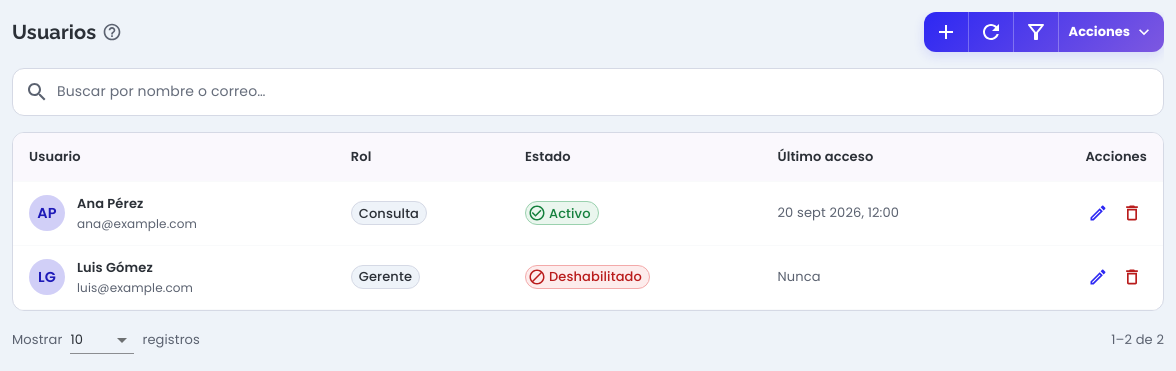
Scenario: <UsersPage /> › filtra por rol desde el filtro avanzado y muestra cuántos filtros hay
Expected: the row "Ana Pérez" is shown, x1=13 y1=182 x2=1163 y2=245
Click the button named "Filtros avanzados" at {"x": 1035, "y": 32}, box x1=1012 y1=12 x2=1058 y2=52
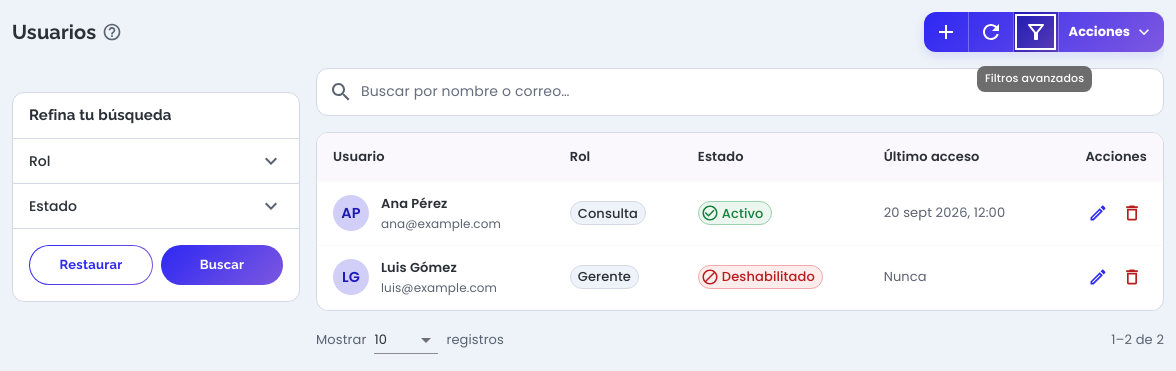
Click the button "Rol" at {"x": 40, "y": 160}, box x1=13 y1=139 x2=299 y2=183
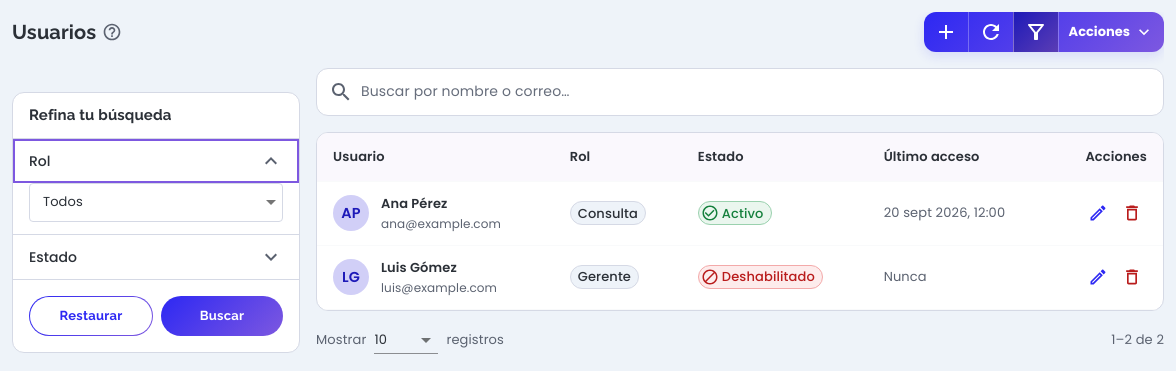
Select "Gerente" in the dropdown named "Rol" at {"x": 156, "y": 202}, box x1=29 y1=183 x2=283 y2=222
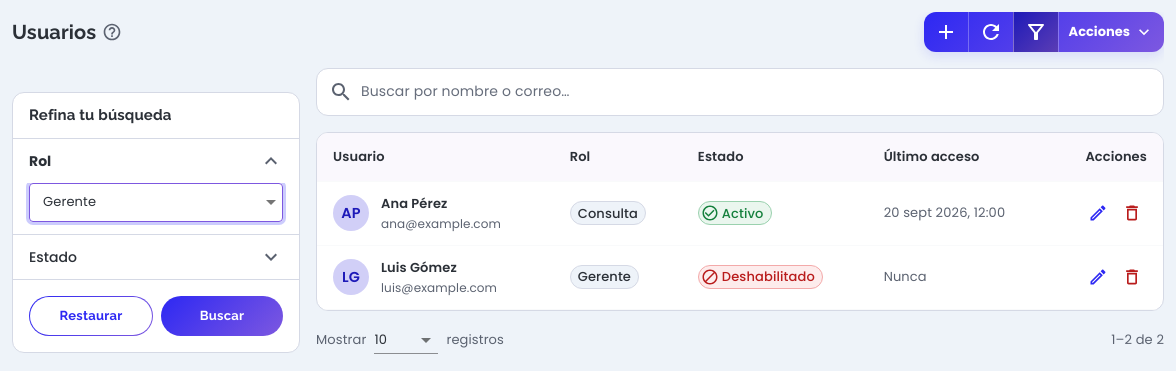
Click the button "Buscar" at {"x": 222, "y": 316}, box x1=161 y1=296 x2=283 y2=336
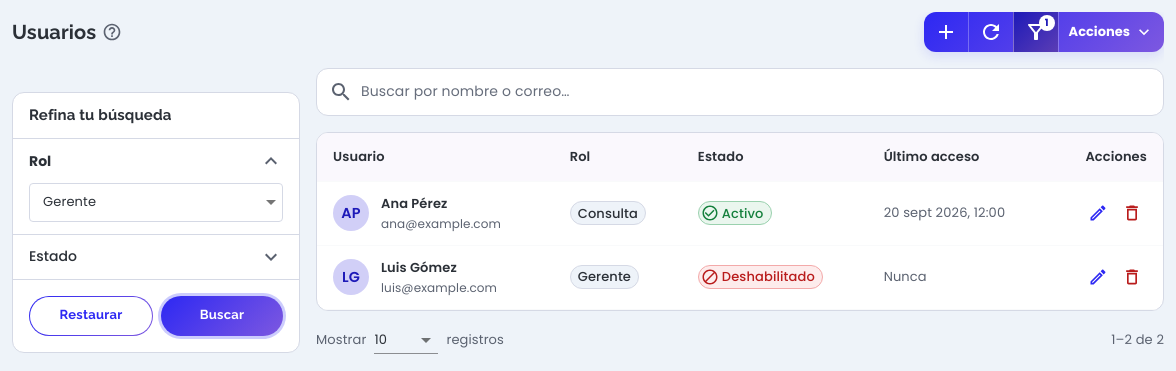
Result: the button named "Filtros avanzados (1 aplicado)" is shown at x1=1012 y1=12 x2=1058 y2=52
